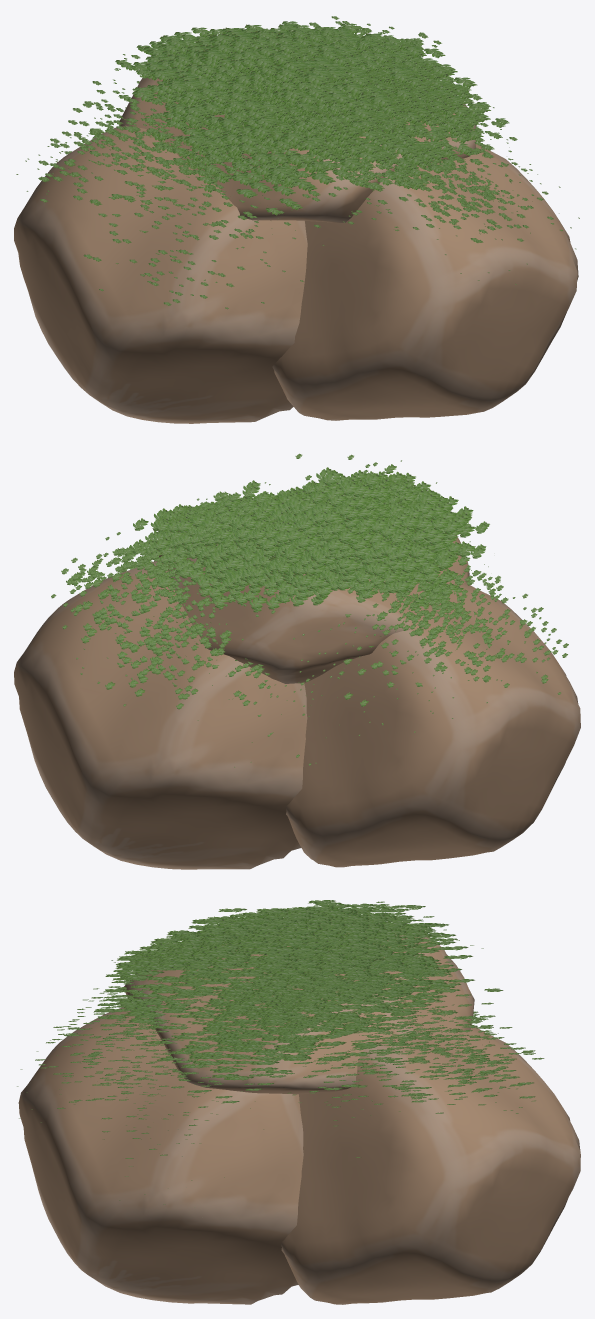
The model's file is Grass_Stone.fbx.
3 views of the same model, one above another, from view 1: azimuth 30°, elevation 25°; view 2: azimuth 150°, elevation 25°; view 3: azimuth 270°, elevation 25° (orthographic).
Visible parts, largest first — view 1: Grass_Stone; view 2: Grass_Stone; view 3: Grass_Stone.
Boxes of the visible parts, bbox=[...] form: Grass_Stone: bbox=[14, 16, 579, 423]; Grass_Stone: bbox=[14, 453, 580, 869]; Grass_Stone: bbox=[17, 900, 580, 1304].
Size of the model in its own units: 119 by 89.26 by 129.
